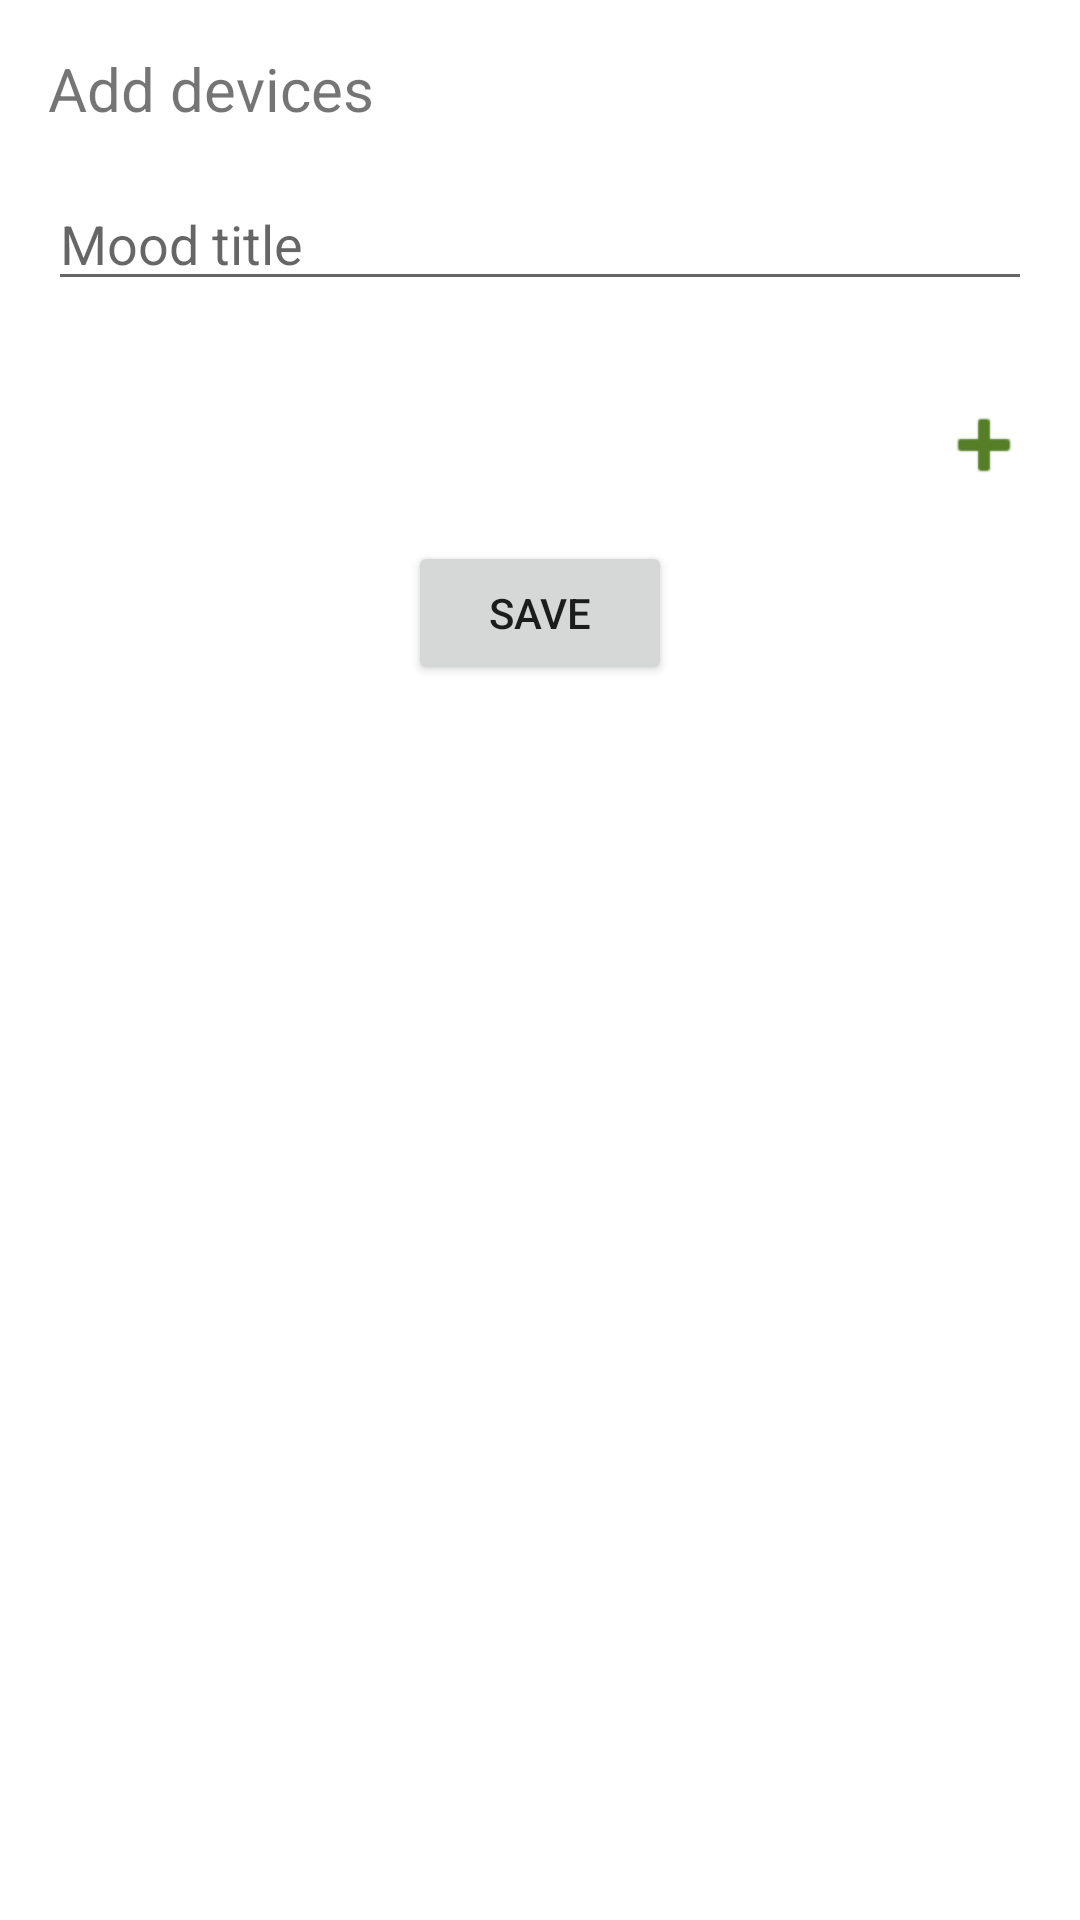

Named icons in this screenshot (1080px x 1920px) and their centers, [x,y]:
add: [984,445]
